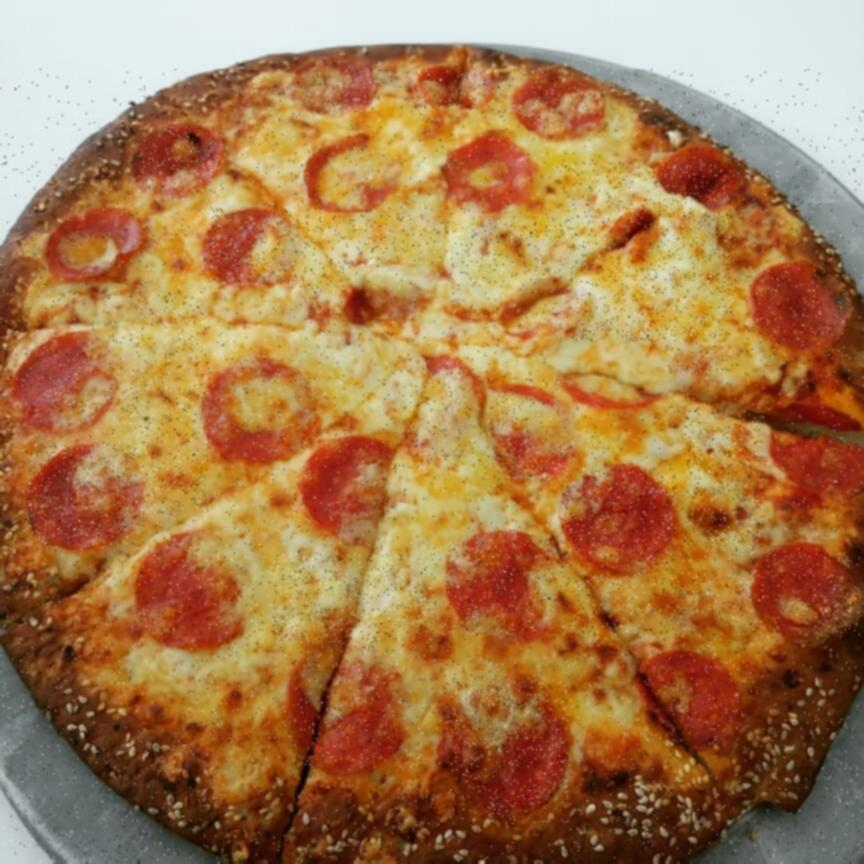Cheese: (324, 342, 562, 532), (566, 163, 734, 375), (305, 216, 561, 319), (130, 288, 208, 517), (274, 554, 437, 644), (562, 574, 741, 642), (685, 409, 764, 552)
Pepperoni: (447, 676, 568, 825), (136, 539, 263, 643), (295, 649, 402, 768), (26, 439, 142, 546), (560, 468, 677, 570), (209, 362, 316, 461), (447, 538, 554, 635), (14, 335, 128, 424), (398, 356, 483, 471), (641, 652, 745, 743), (747, 266, 850, 356), (749, 548, 851, 634), (488, 376, 567, 483), (305, 438, 386, 542), (49, 212, 147, 284), (562, 342, 667, 407), (208, 210, 298, 284), (345, 265, 449, 328), (308, 142, 395, 212), (656, 147, 741, 216), (520, 68, 606, 132), (450, 140, 536, 202), (136, 128, 217, 193), (500, 279, 576, 326), (307, 65, 380, 111), (418, 64, 489, 109), (596, 212, 660, 250)
Pizza: (0, 70, 864, 864)
